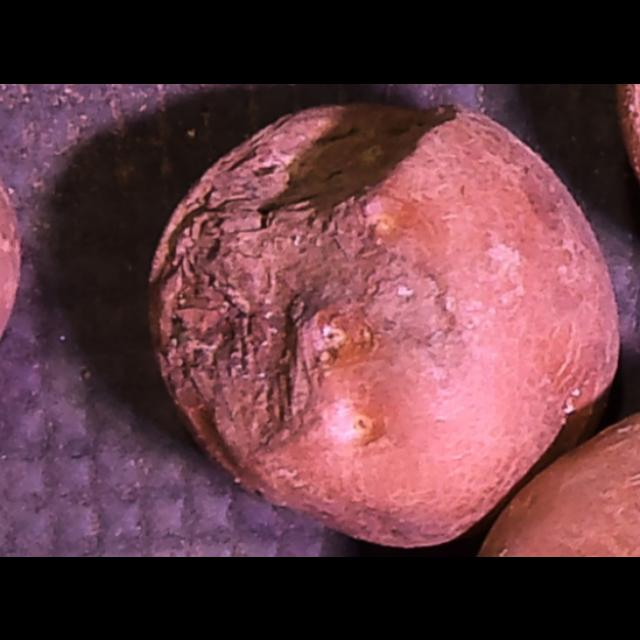Damaged potato: (139, 98, 627, 556)
